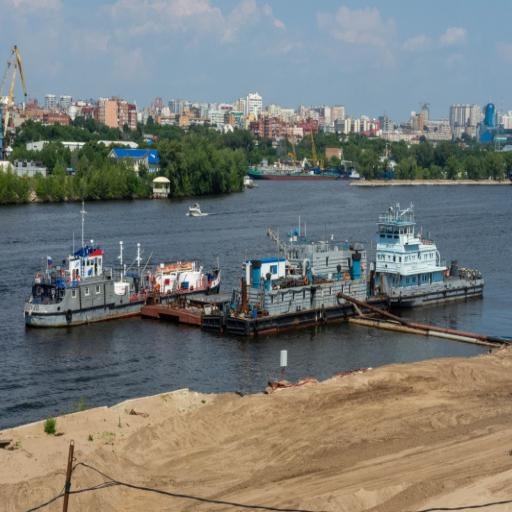tugboat: (358, 202, 488, 320)
